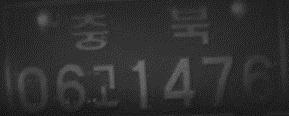0: (17, 65, 49, 113)
1: (126, 59, 156, 110)
4: (161, 57, 194, 105)
6: (54, 64, 88, 112), (242, 55, 275, 104)
7: (202, 54, 232, 105)
고: (92, 65, 118, 108)
충북_D: (70, 7, 210, 52)
